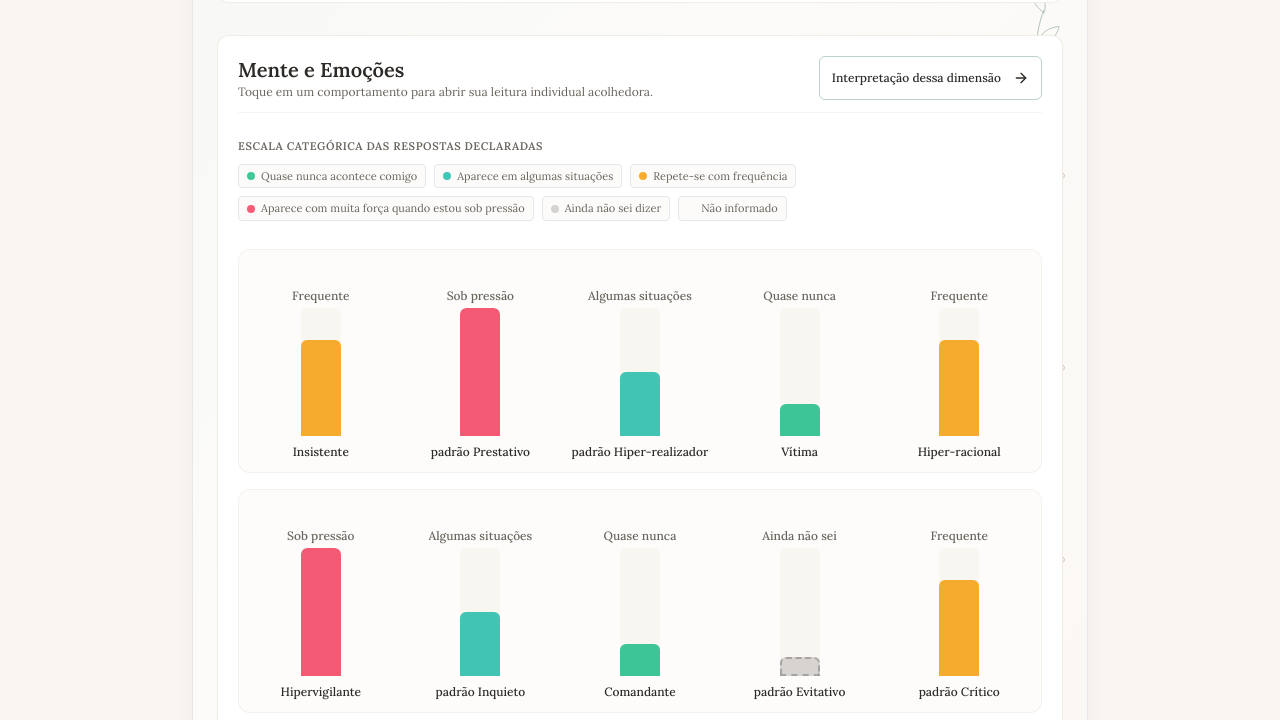
Leitura do funcionamento no mapa › preserva uma leitura revisada por Daiane ao abrir o comportamento
(page scrolled)
What coordinates should you click on to do the following:
click the button with aria-label "Prestativo: categoria"
I would click on:
 (480, 361)
Its box is [407, 258, 554, 464].
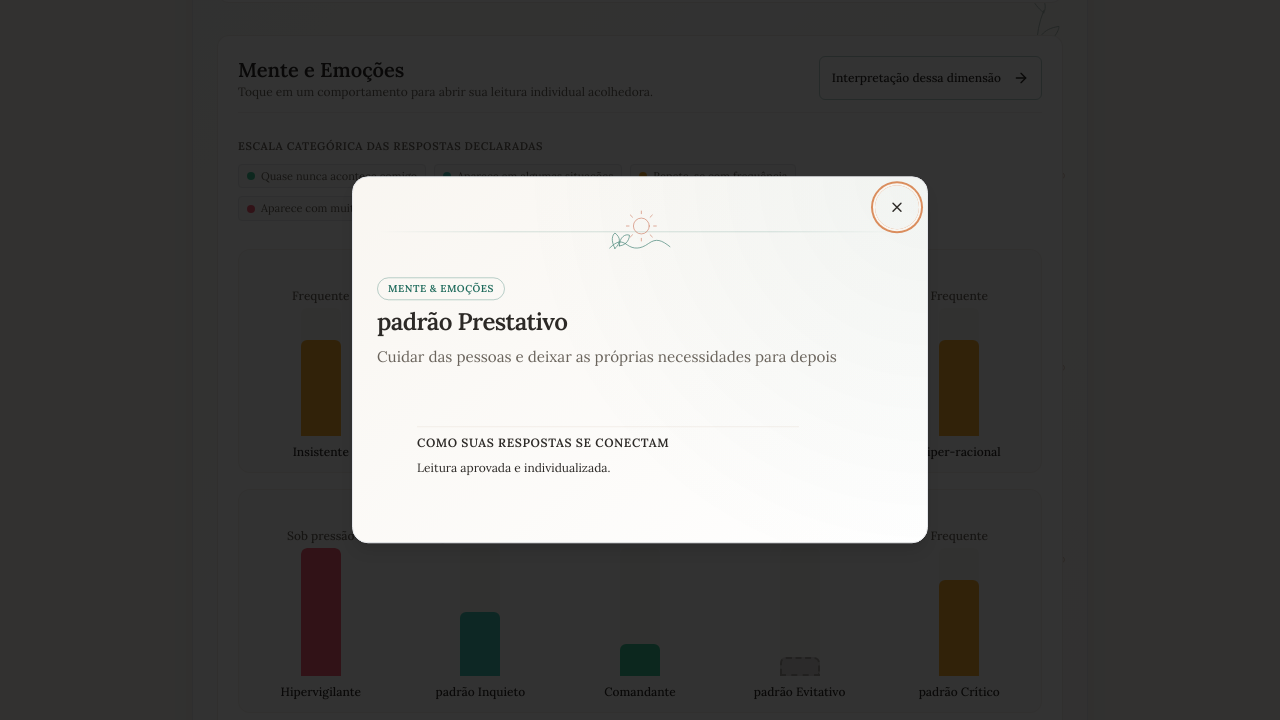
Expected: the text "Leitura aprovada e individualizada." is shown, [417, 460, 610, 475]
